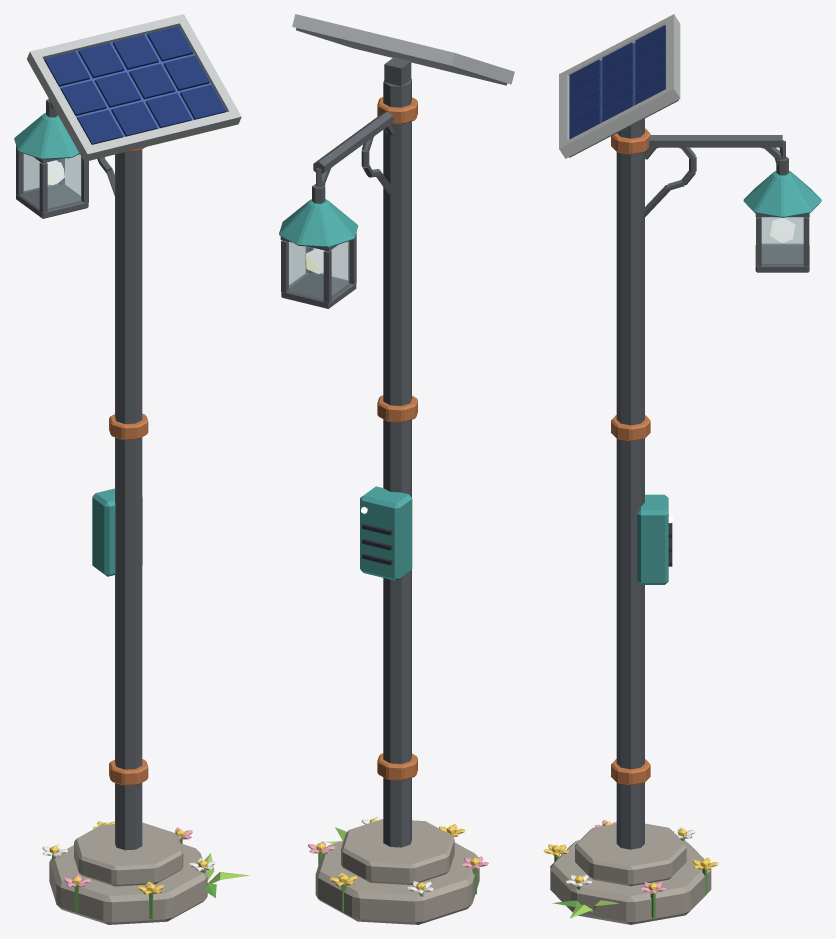
Rendered from solar_street_lamp.glb.
3 views of the same model, side by side, from view 1: azimuth 30°, elevation 25°; view 2: azimuth 150°, elevation 25°; view 3: azimuth 270°, elevation 25° (orthographic). The views are drawn at different scales.
Visible parts, largest first — view 1: Solar Street Lamp; view 2: Solar Street Lamp; view 3: Solar Street Lamp.
Boxes of the visible parts, x1,y1,x2,y2 form: Solar Street Lamp: [14, 14, 250, 924]; Solar Street Lamp: [279, 14, 514, 924]; Solar Street Lamp: [543, 14, 821, 924].
Bounding box in the file's own units: 0.6124 × 2.93 × 0.8804.
Materials: 3 (1 with a texture image).
